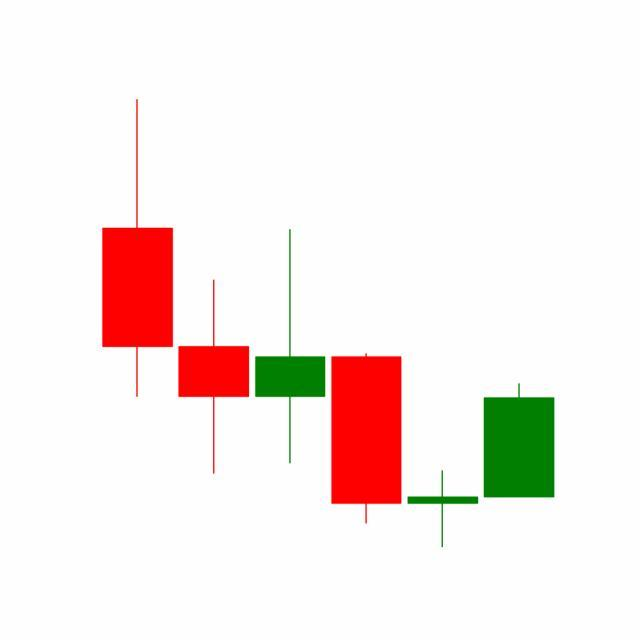Spinning Top: (404, 469, 482, 549)
